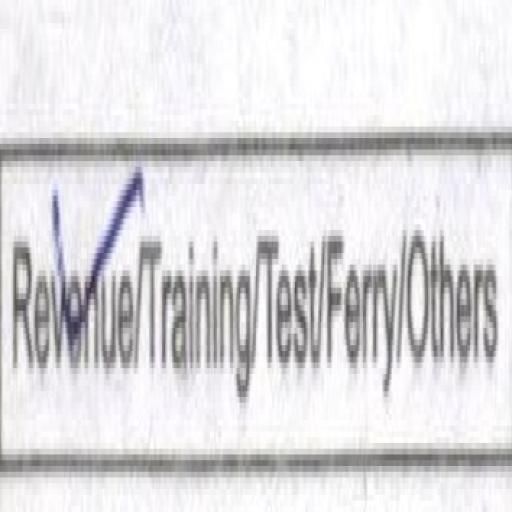check: (0, 54, 140, 502)
